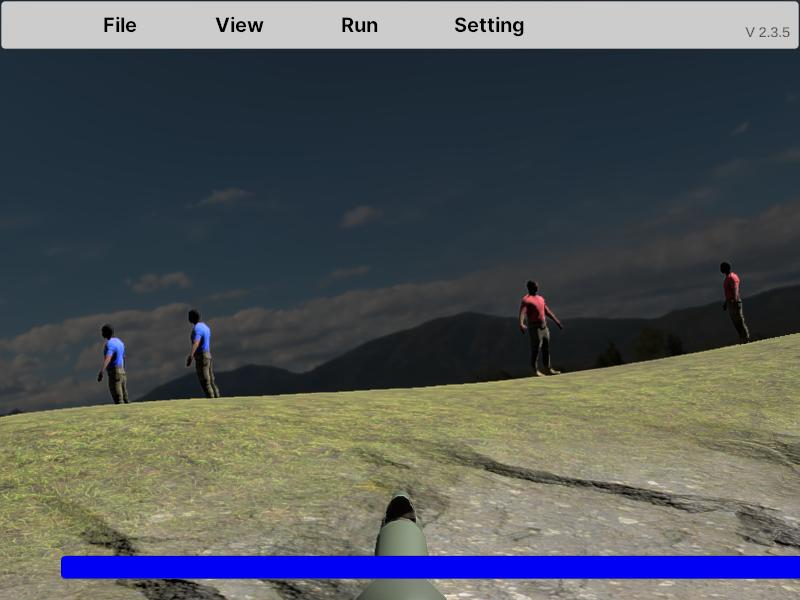Human: (186, 309, 227, 418), (520, 280, 562, 377), (98, 323, 135, 430), (720, 261, 753, 349)
